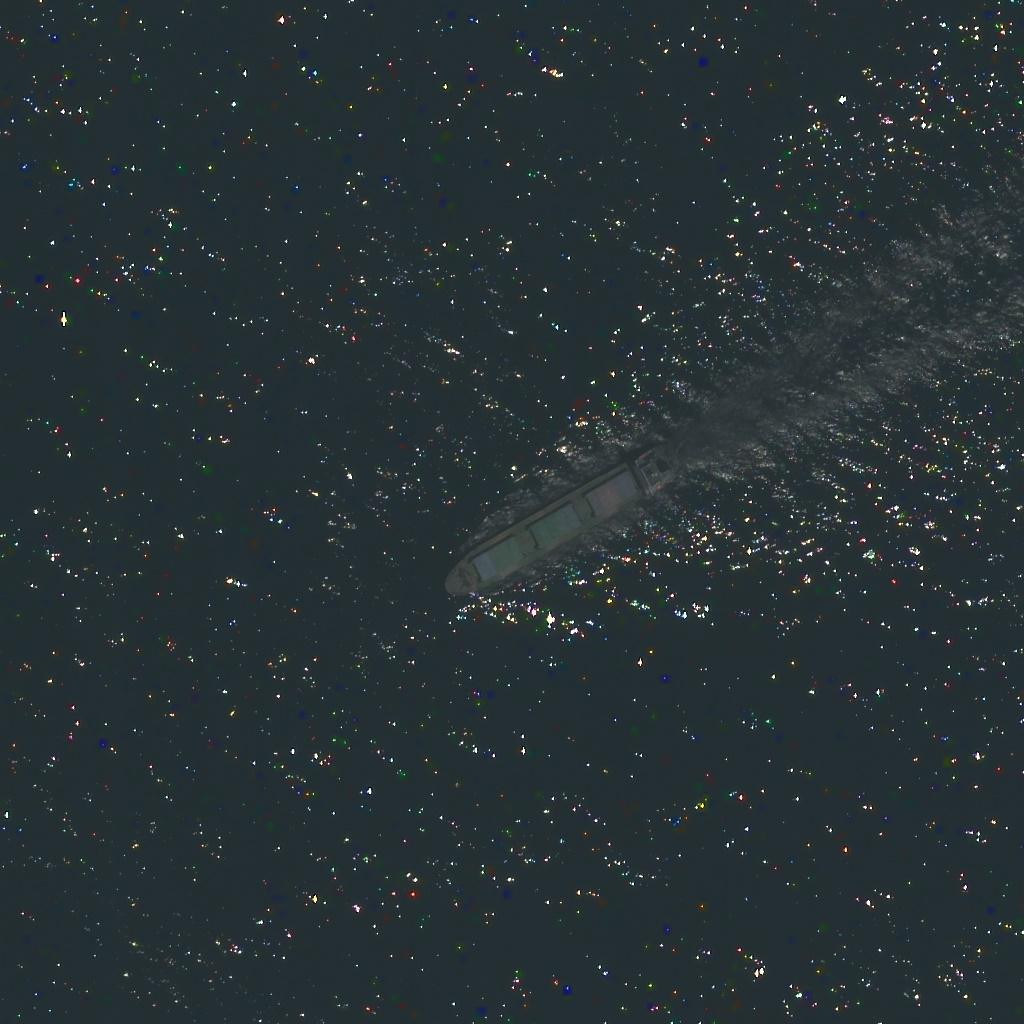ship: (438, 439, 689, 604)
